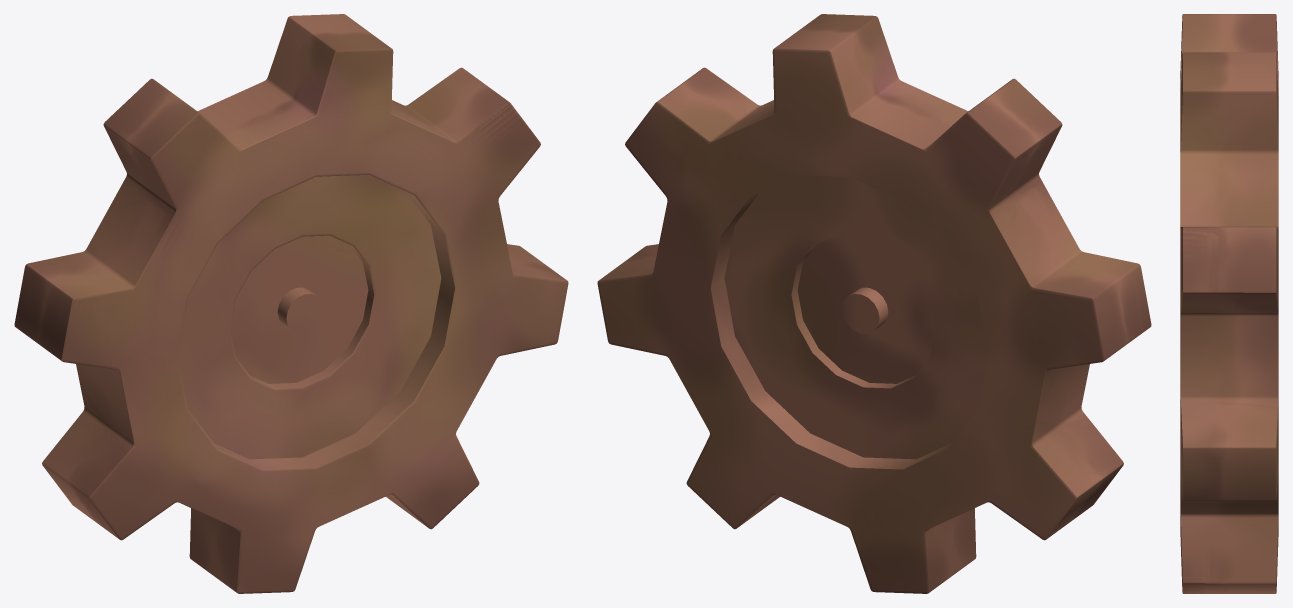
The model's file is Medium gear.fbx.
The picture shows the model from 3 angles, left to right: view 1: azimuth 30°, elevation 25°; view 2: azimuth 150°, elevation 25°; view 3: azimuth 270°, elevation 25°; orthographic projection.
Visible parts, largest first — view 1: Medium gear; view 2: Medium gear; view 3: Medium gear.
Part boxes in pixels (x1,y1,x2,y2): Medium gear: (14, 14, 568, 593); Medium gear: (597, 14, 1151, 593); Medium gear: (1180, 14, 1278, 593).
Bounding box in the file's own units: 855 × 855 × 146.
